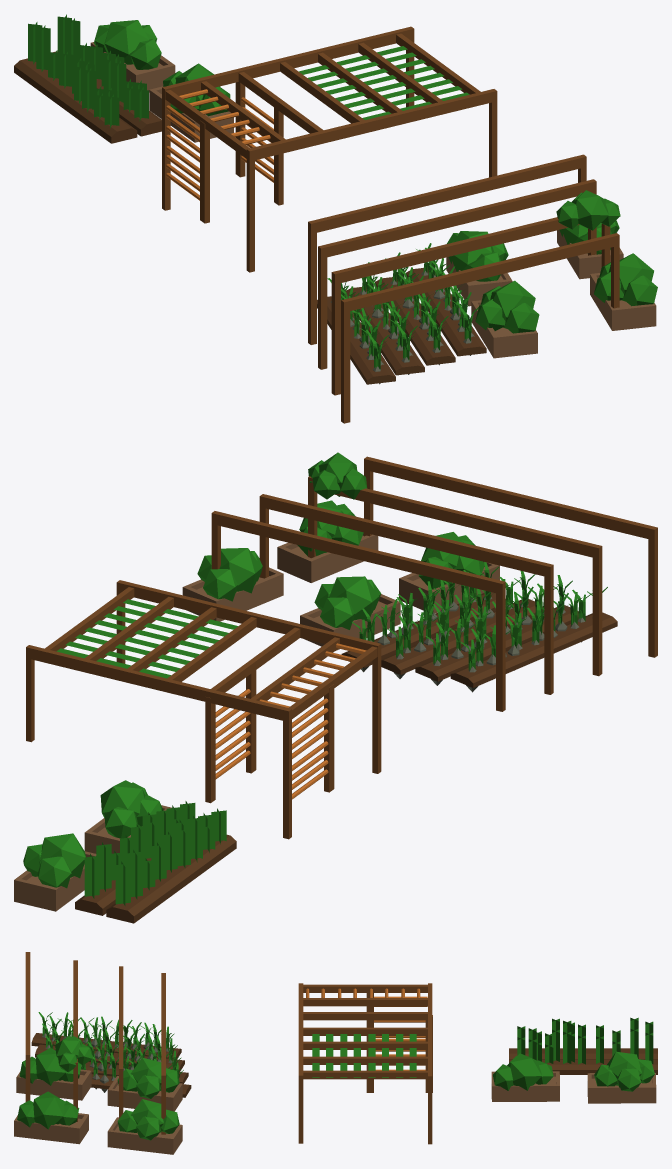
File: solution_24_shade.fbx
3 views of the same model, one above another, from view 1: azimuth 30°, elevation 25°; view 2: azimuth 150°, elevation 25°; view 3: azimuth 270°, elevation 25° (orthographic). The views are drawn at different scales.
Visible parts, largest first — view 1: solution_24_shade; view 2: solution_24_shade; view 3: solution_24_shade.
Part boxes in pixels (x1,y1,x2,y2): solution_24_shade: (14,14,657,423); solution_24_shade: (14,452,657,923); solution_24_shade: (14,952,657,1154).
Size of the model in its own units: 1898 by 729 by 3913.
